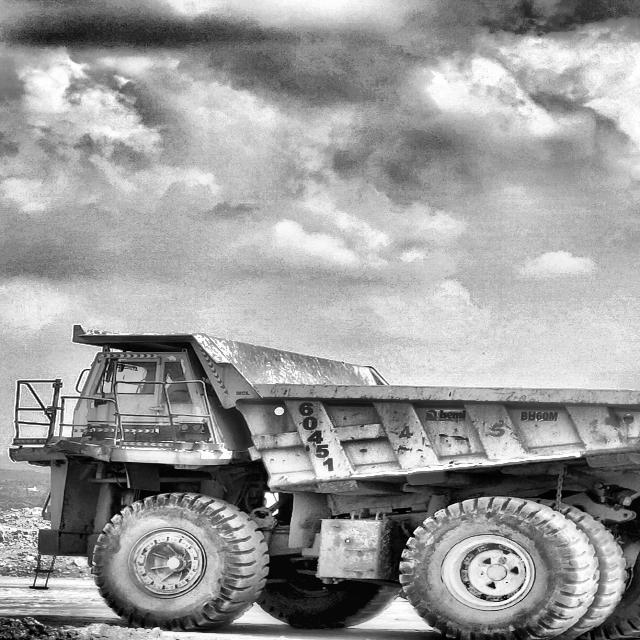dump_truck: (10, 327, 640, 640)
